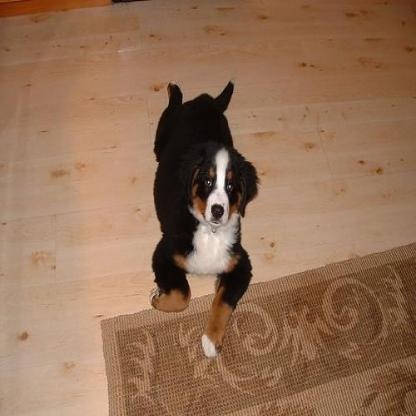Bernese_mountain_dog: (147, 77, 260, 355)
